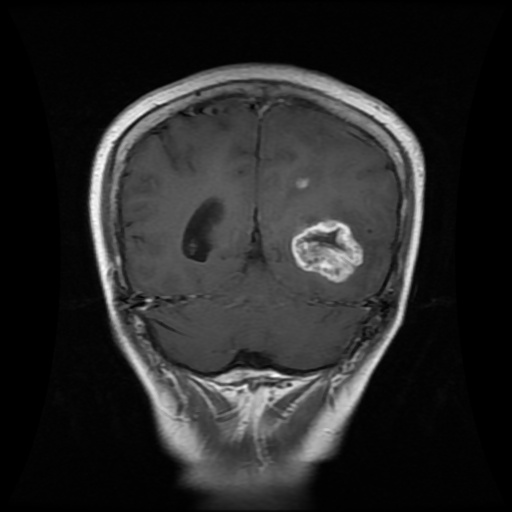glioma: (290, 220, 363, 282)
